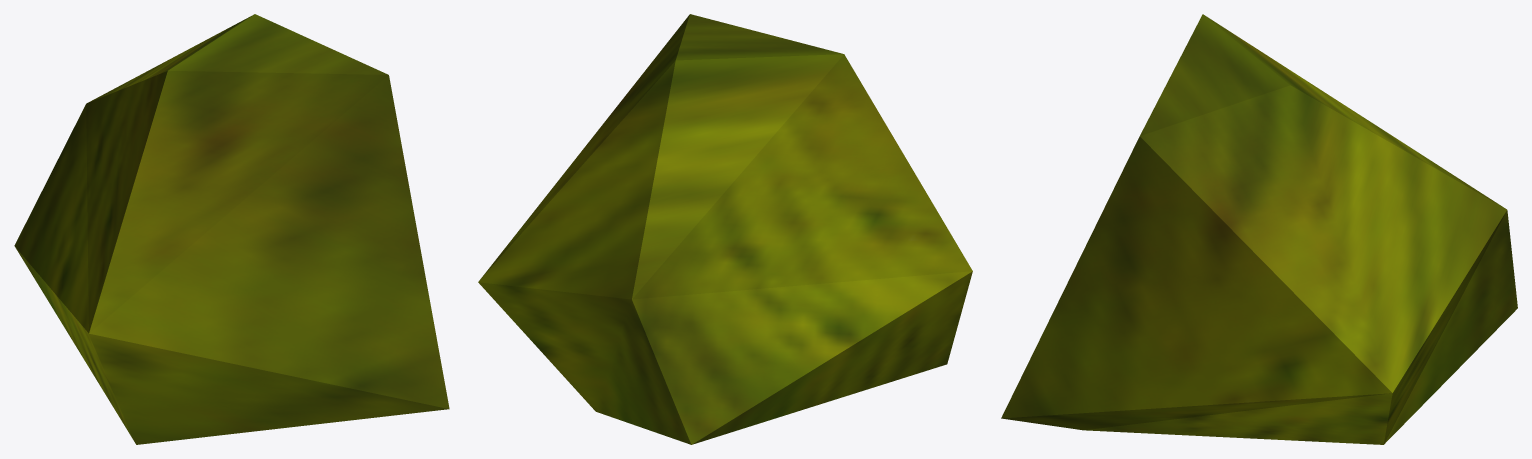
Rendered from TheOctagon_Floor_2_Rock_2.gltf.
3 views of the same model, side by side, from view 1: azimuth 30°, elevation 25°; view 2: azimuth 150°, elevation 25°; view 3: azimuth 270°, elevation 25° (orthographic). The views are drawn at different scales.
Parts seen in each view (by area): view 1: TheOctagon_Floor_2_Rock_2; view 2: TheOctagon_Floor_2_Rock_2; view 3: TheOctagon_Floor_2_Rock_2.
Boxes of the visible parts, x1,y1,x2,y2 form: TheOctagon_Floor_2_Rock_2: (14,14,449,444); TheOctagon_Floor_2_Rock_2: (478,14,972,444); TheOctagon_Floor_2_Rock_2: (1001,14,1517,444).
Bounding box in the file's own units: 5.6 × 4.73 × 6.35.
Materials: 1 (1 with a texture image).
